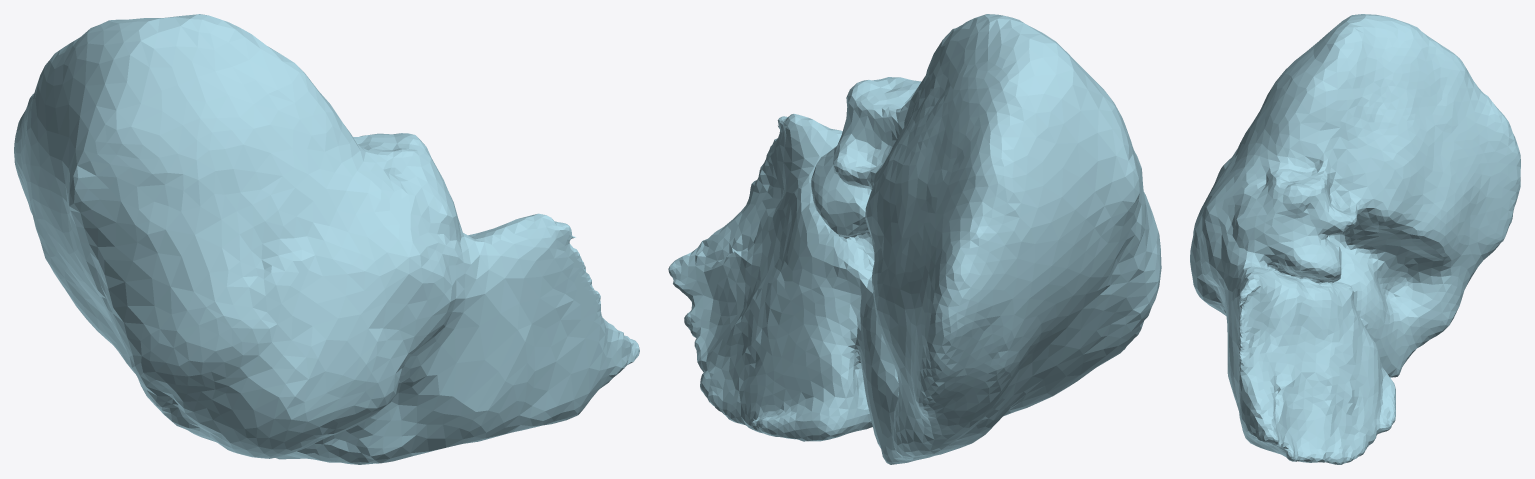
The model's file is liver.obj.
The picture shows the model from 3 angles, left to right: view 1: azimuth 30°, elevation 25°; view 2: azimuth 150°, elevation 25°; view 3: azimuth 270°, elevation 25°; orthographic projection. The views are drawn at different scales.
Parts seen in each view (by area): view 1: grp1; view 2: grp1; view 3: grp1.
Part boxes in pixels (x1,y1,x2,y2): grp1: (14,14,639,464); grp1: (668,14,1161,464); grp1: (1190,14,1520,464).
Bounding box in the file's own units: 220 × 189 × 169.
